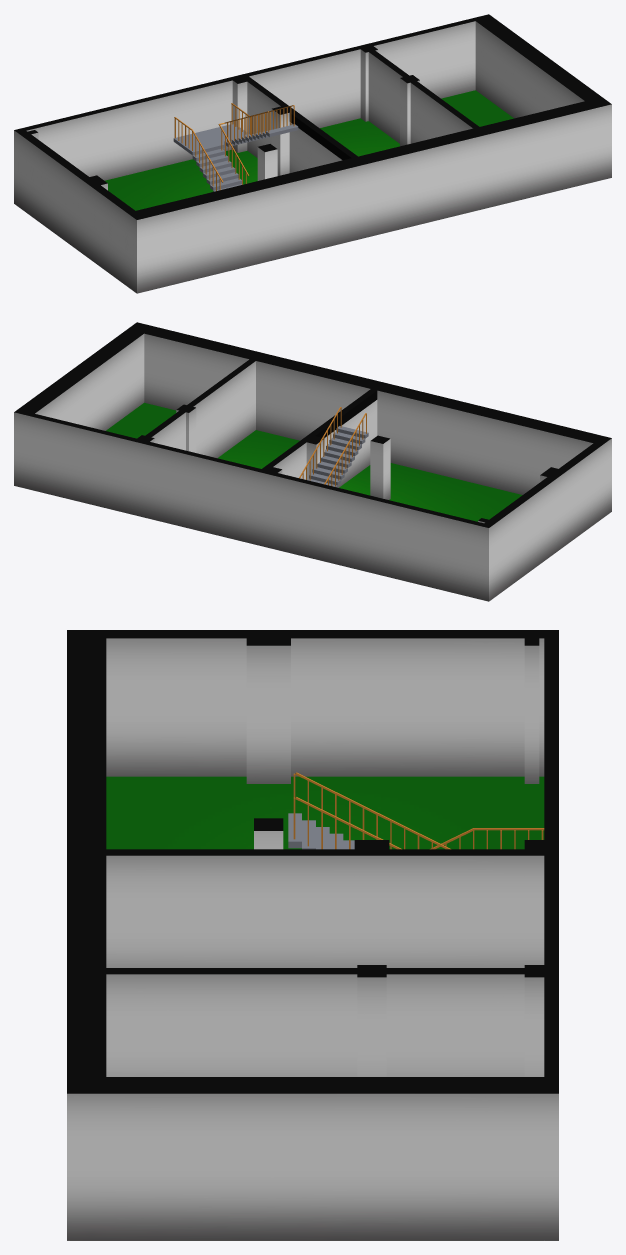
The model's file is soulbrain_T5-1-1B.glb.
The picture shows the model from 3 angles, top to bottom: view 1: azimuth 30°, elevation 25°; view 2: azimuth 150°, elevation 25°; view 3: azimuth 270°, elevation 25°; orthographic projection. The views are drawn at different scales.
Parts seen in each view (by area): view 1: Box043, Plane001, T5-1-1B; view 2: Box043, Plane001, T5-1-1B; view 3: Box043, Plane001, T5-1-1B.
Part boxes in pixels (x1,y1,x2,y2): Box043: (14, 14, 611, 293); Plane001: (105, 90, 513, 210); T5-1-1B: (173, 103, 298, 191); Box043: (14, 322, 611, 601); Plane001: (106, 402, 522, 521); T5-1-1B: (299, 407, 368, 487); Box043: (67, 630, 558, 1240); Plane001: (106, 776, 544, 849); T5-1-1B: (288, 772, 544, 849).
Size of the model in its own units: 22.3 by 4.24 by 10.
Materials: 5 (4 with a texture image).
